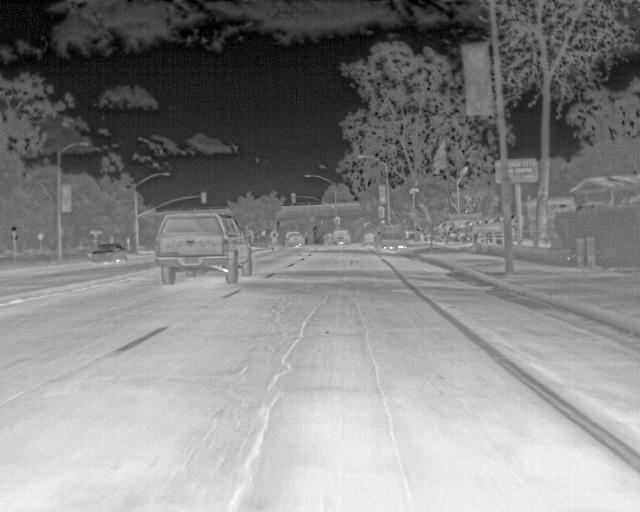car: (157, 211, 252, 285), (86, 242, 127, 265), (378, 228, 406, 255), (331, 228, 350, 246), (286, 230, 304, 247)
